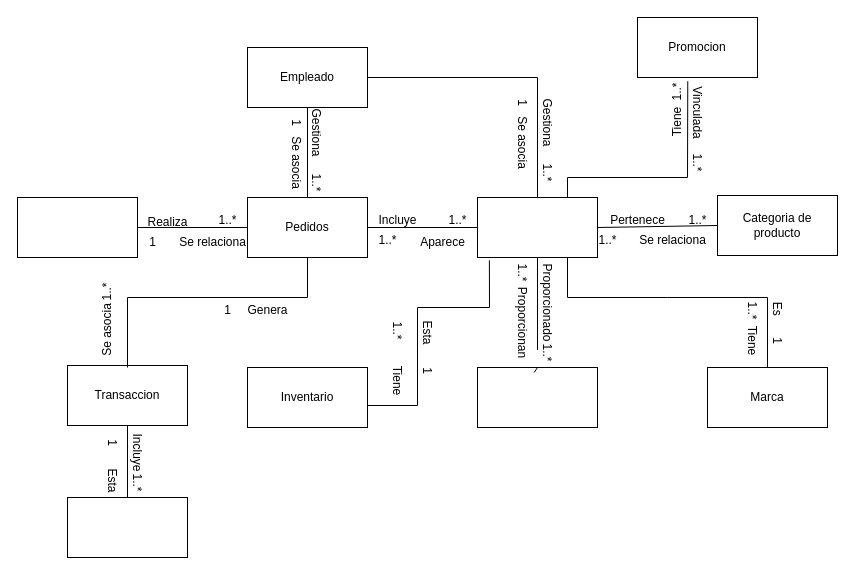
Some shapes in this 855 by 575 pixel diagram are drawn without their labels. Each missing label, with the centre of its shape:
Clientes: point (77, 227)
Pago: point (127, 527)
Producto: point (537, 227)
Proveedor: point (537, 397)
